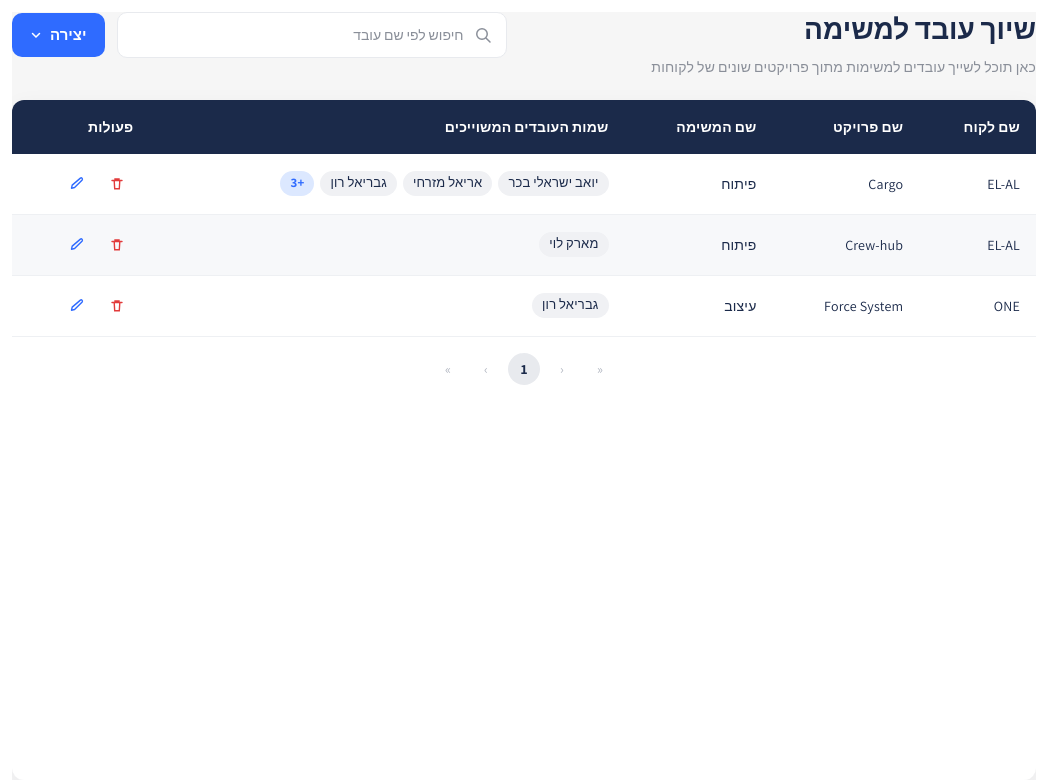
Scenario: AdminAssignments › opens the create menu from יצירה
Expected: the text "Cargo" is shown, [772,154,919,214]
Click the button "יצירה". click: (58, 35)
box: [12,13,104,57]
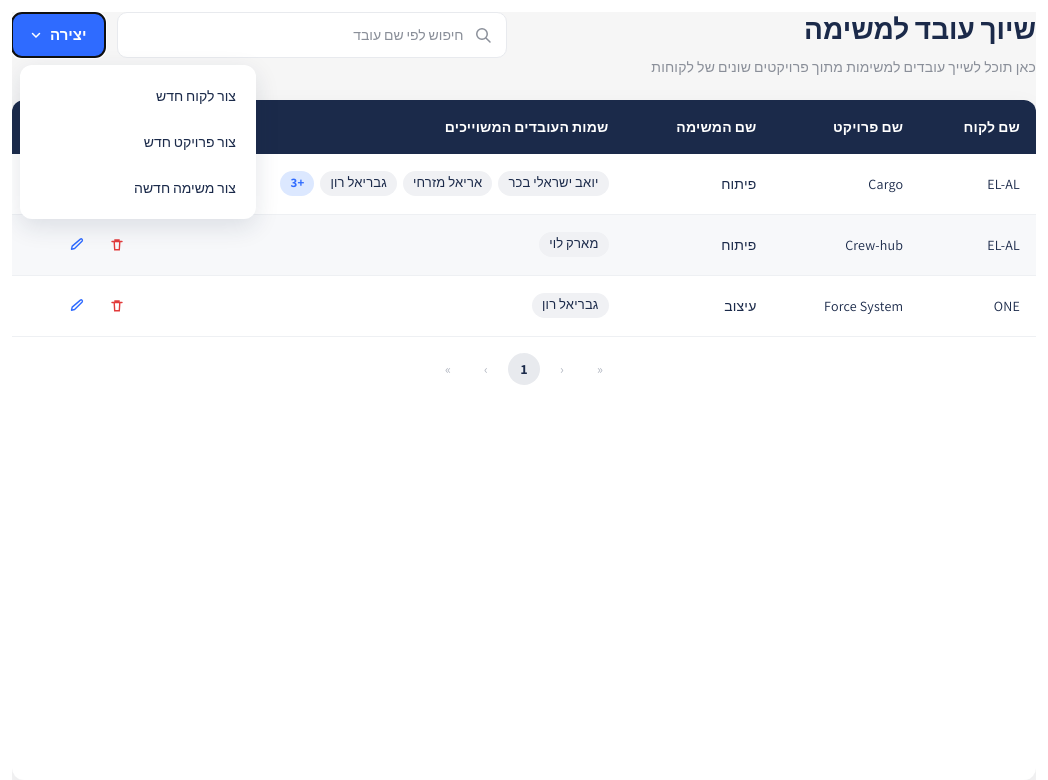
Result: the menu item "צור לקוח חדש" is shown at [28,73,248,119]
Result: the menu item "צור פרויקט חדש" is shown at [28,119,248,165]
Result: the menu item "צור משימה חדשה" is shown at [28,165,248,211]
